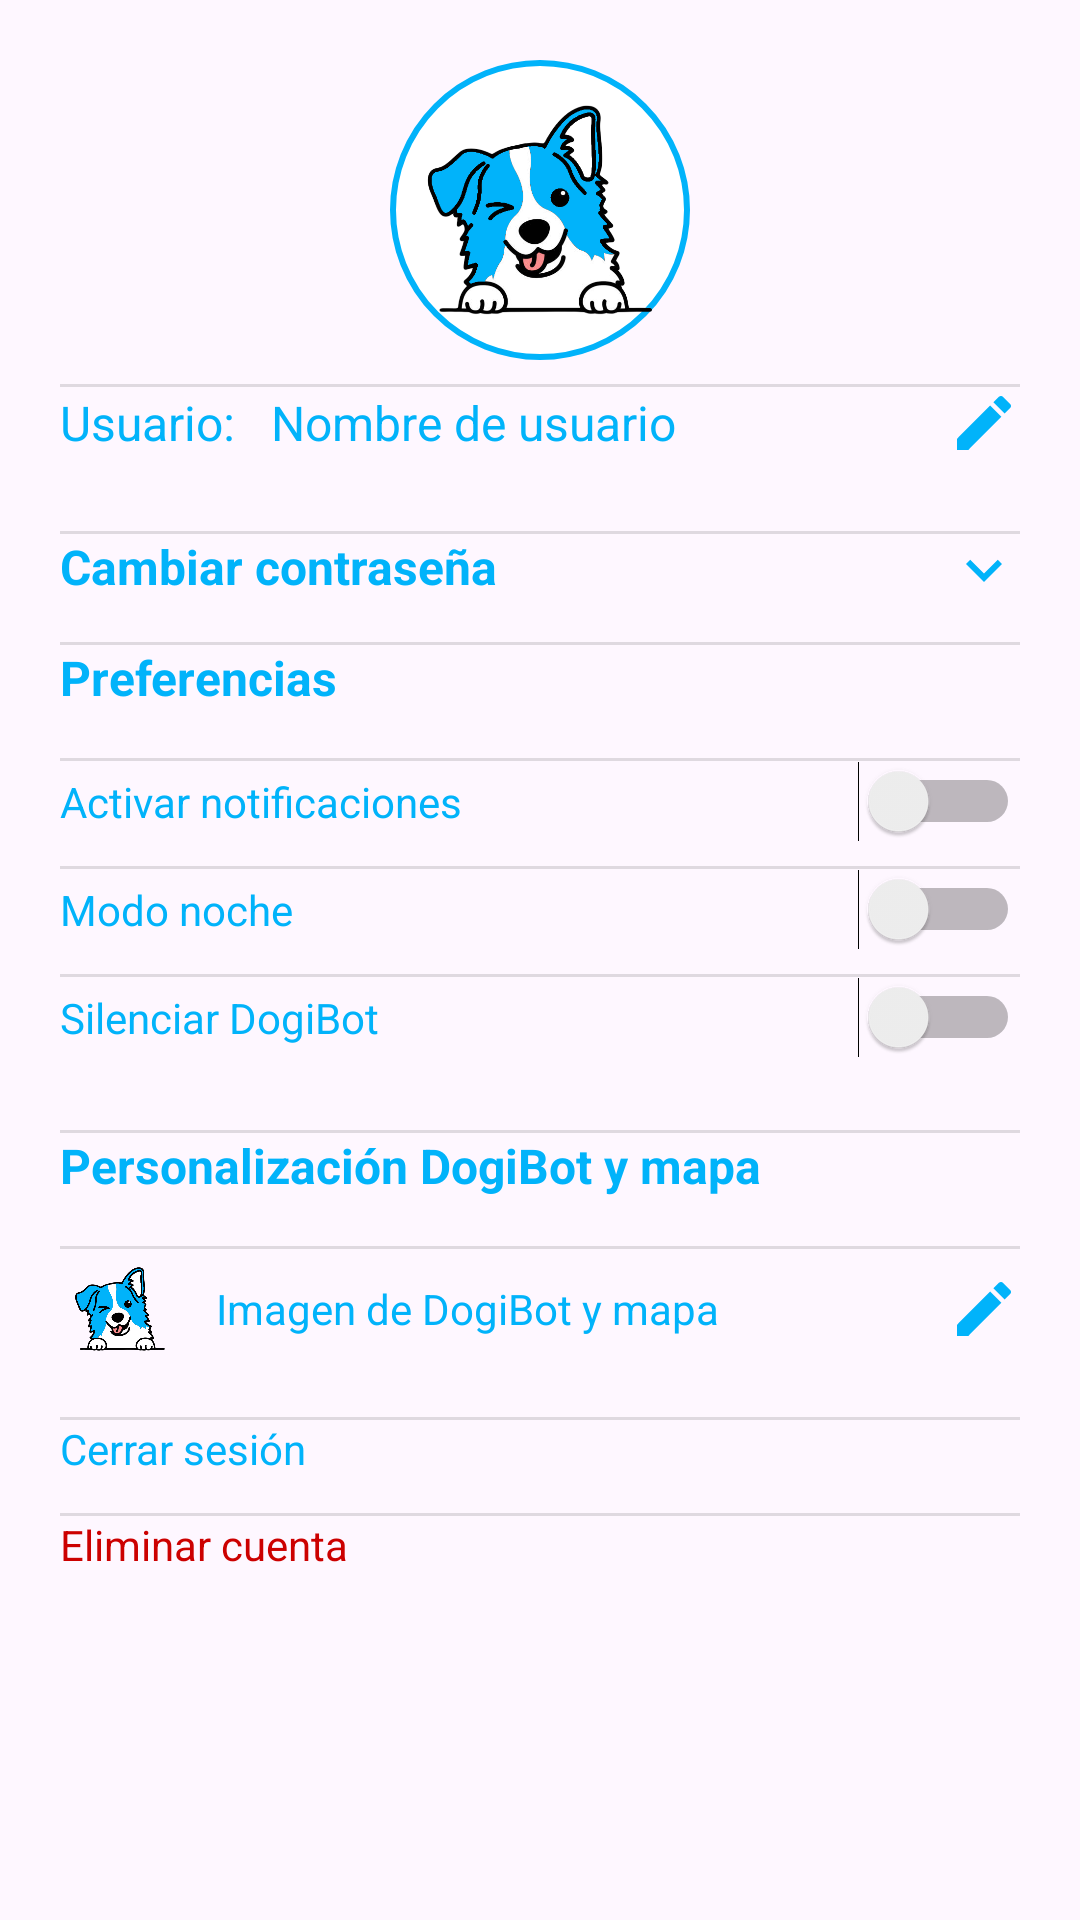

Named icons in this screenshot (1080 × 1920) and their bounding boxes, (x1, y1, x2, y2):
bordercollie: (390, 60, 690, 360), (75, 1267, 165, 1351)
edit: (957, 396, 1011, 450), (957, 1282, 1011, 1336)
expand more: (966, 560, 1002, 582)
